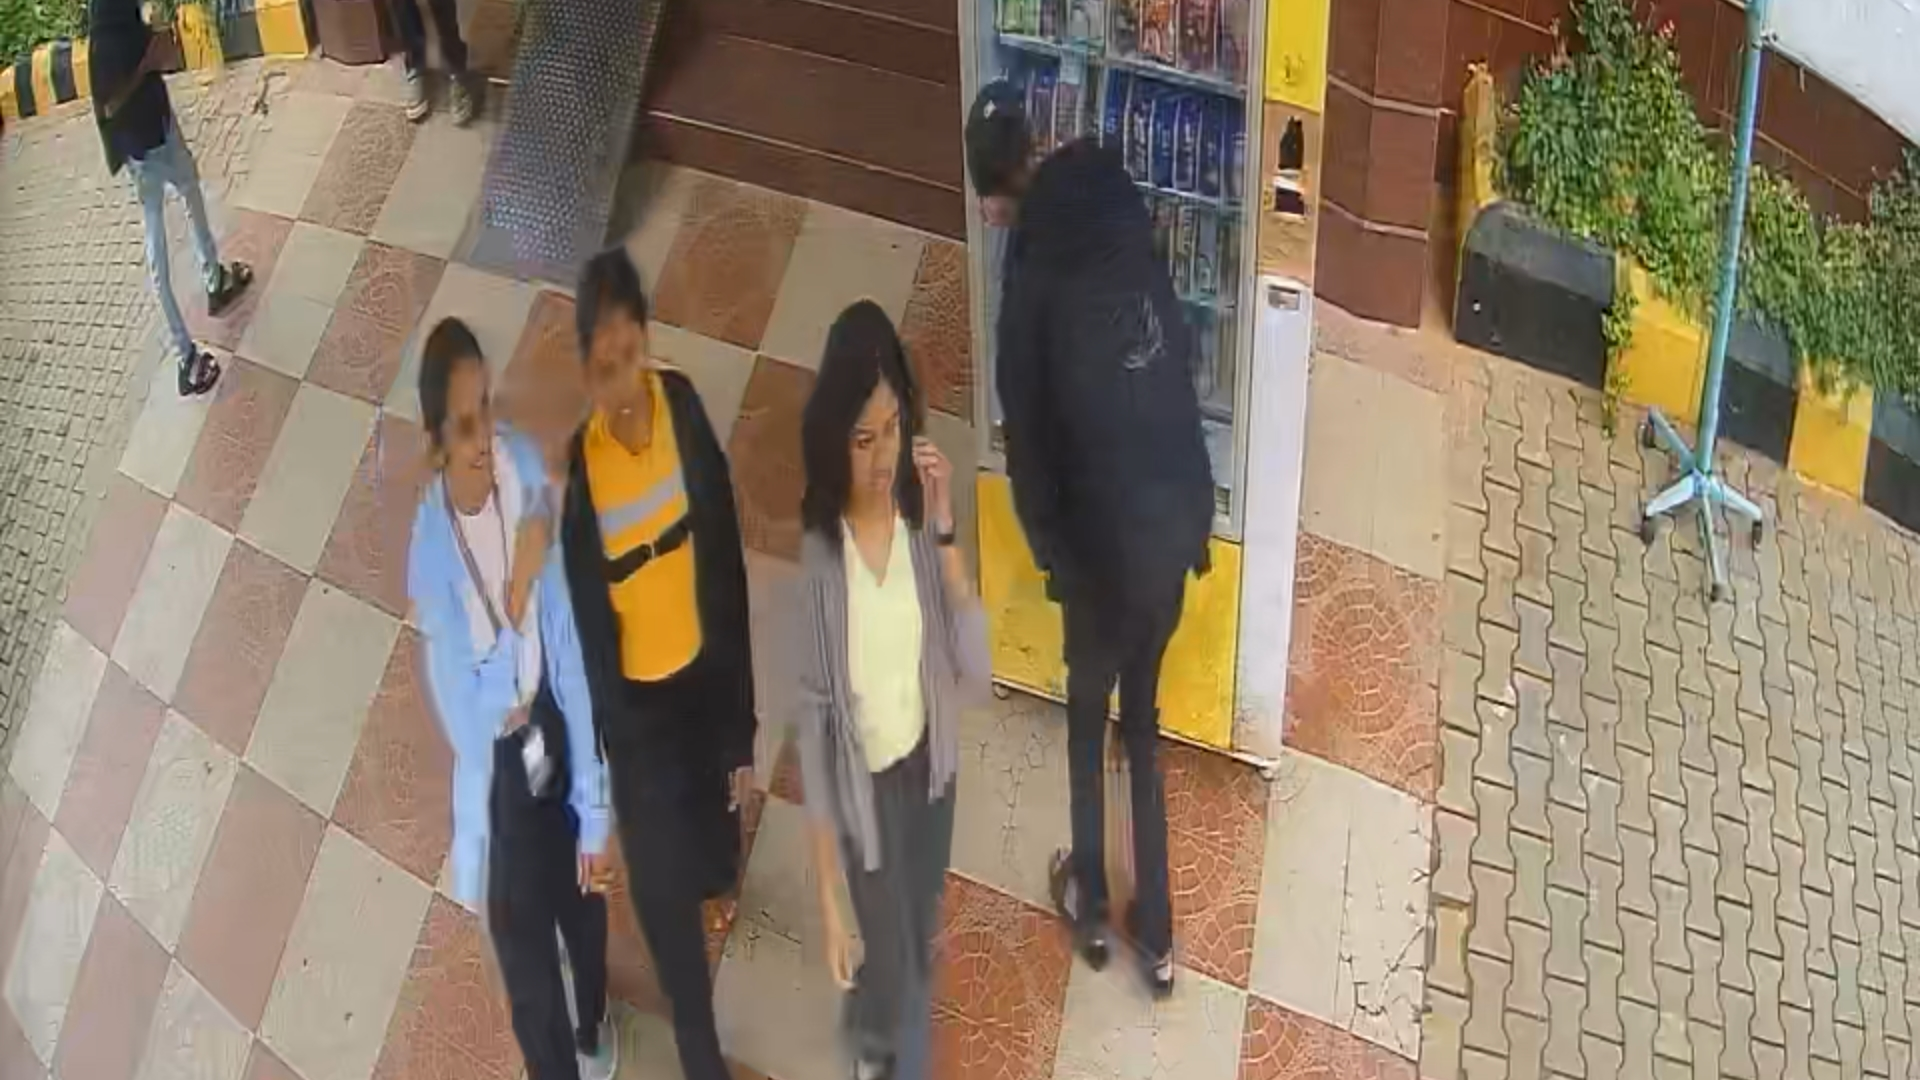intruder: (560, 245, 787, 1067), (795, 295, 982, 1080)
not intruder: (413, 335, 607, 1080)
